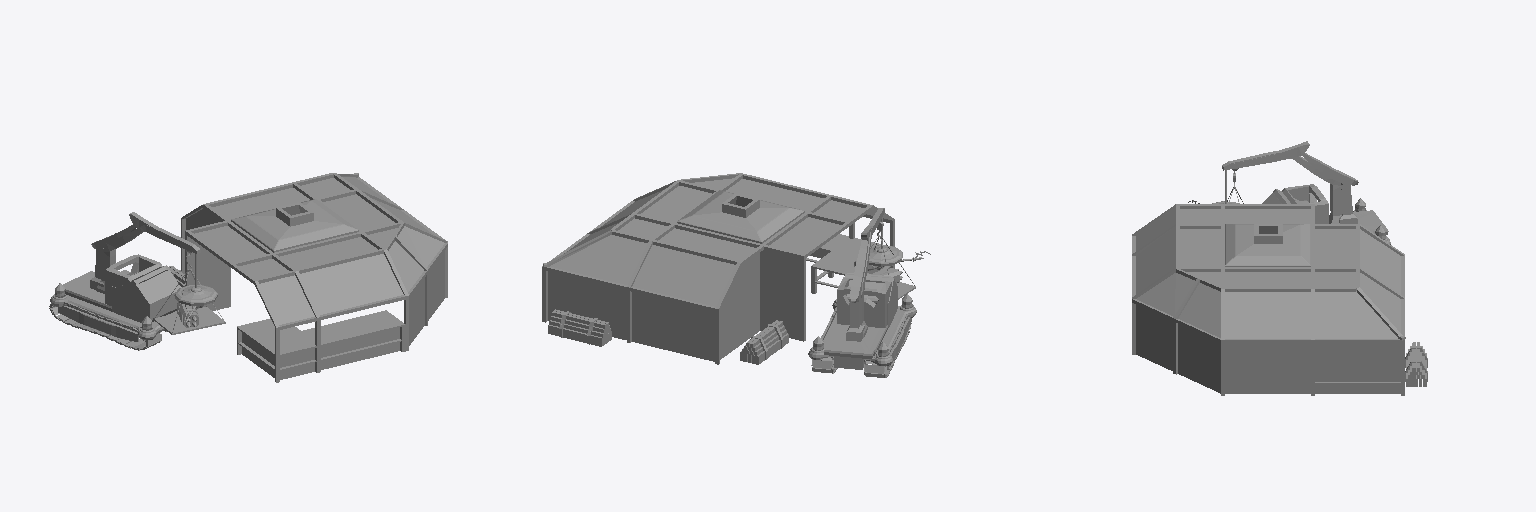
The model's file is workshop.obj.
The picture shows the model from 3 angles: view 1: azimuth 30°, elevation 25°; view 2: azimuth 150°, elevation 25°; view 3: azimuth 270°, elevation 25°; orthographic projection.
Visible parts, largest first — view 1: workshop._Cube.001, drorania_crane_Cone.000, kaonov_crane_Cube.002; view 2: workshop._Cube.001, kaonov_crane_Cube.002, drorania_crane_Cone.000; view 3: workshop._Cube.001, kaonov_crane_Cube.002, drorania_crane_Cone.000.
Part boxes in pixels (bbox=[...]): workshop._Cube.001: bbox=[168, 173, 447, 382]; drorania_crane_Cone.000: bbox=[50, 225, 217, 340]; kaonov_crane_Cube.002: bbox=[49, 212, 225, 350]; workshop._Cube.001: bbox=[542, 173, 894, 364]; kaonov_crane_Cube.002: bbox=[811, 221, 915, 377]; drorania_crane_Cone.000: bbox=[808, 208, 930, 365]; workshop._Cube.001: bbox=[1132, 204, 1427, 395]; kaonov_crane_Cube.002: bbox=[1227, 141, 1388, 234]; drorania_crane_Cone.000: bbox=[1188, 151, 1390, 244].
Size of the model in its own units: 295 by 103 by 230.